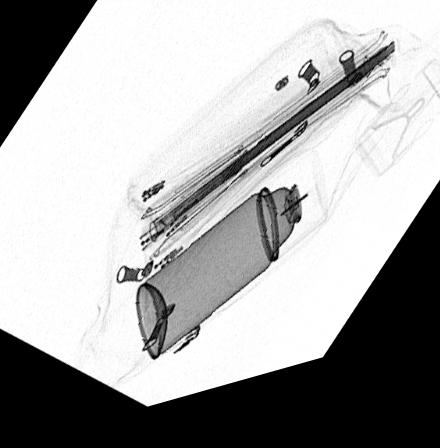Sprayer: (135, 167, 328, 368)
